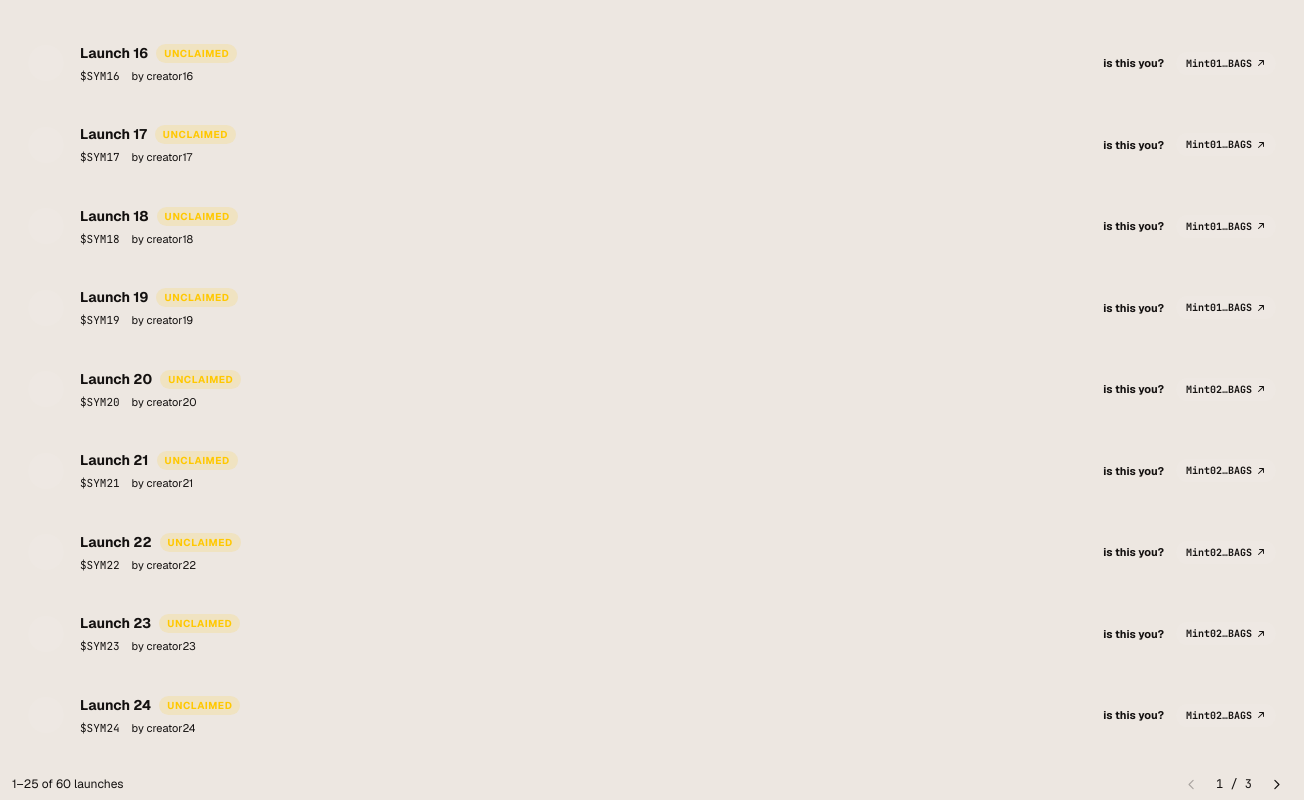
Test case: UnverifiedLaunchBoard › pages forward through the rest
The image size is (1304, 800).
(page scrolled)
Step 1. Click the button named "Next page" → click(1276, 784), box [1260,768,1292,799]
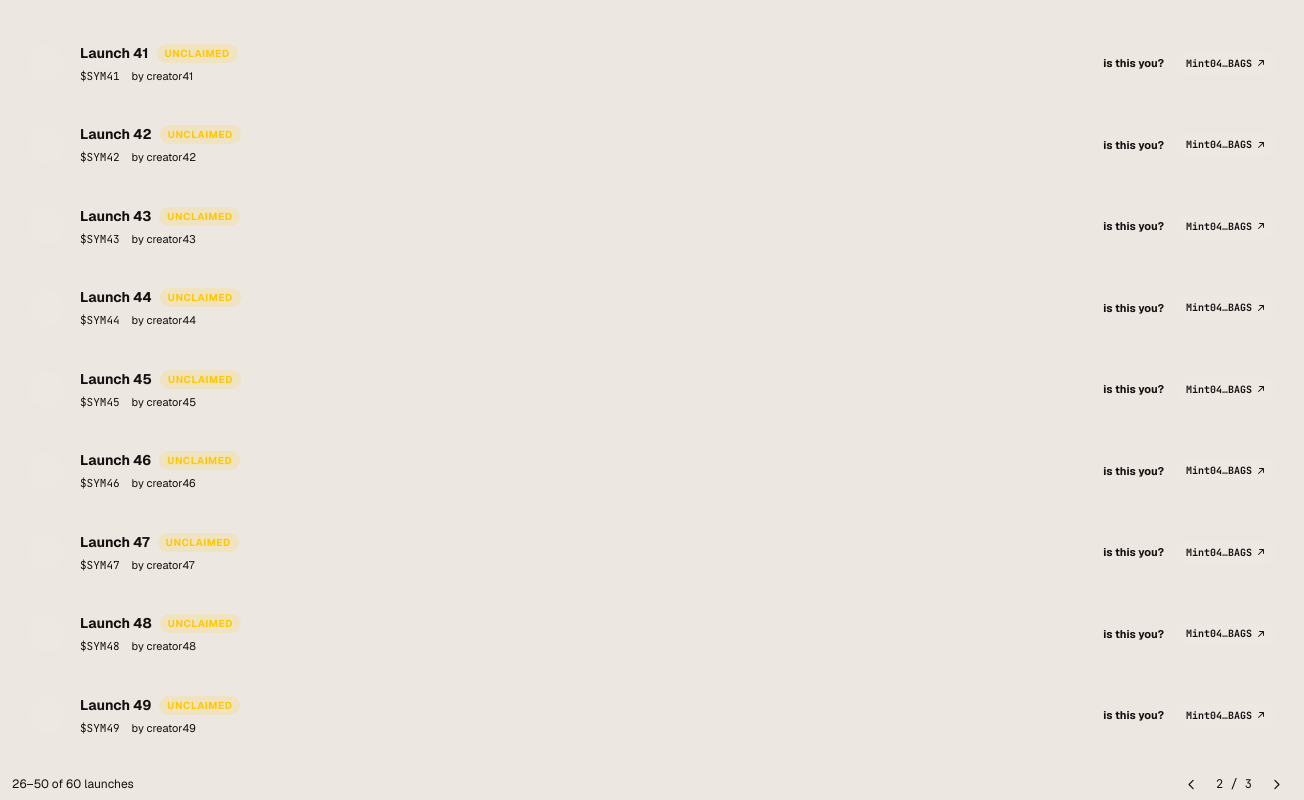
Result: the text "26–50 of 60 launches" is shown at [12,775,134,793]
Step 2. Click the button named "Next page" → click(1276, 784), box [1260,768,1292,799]
(page scrolled)
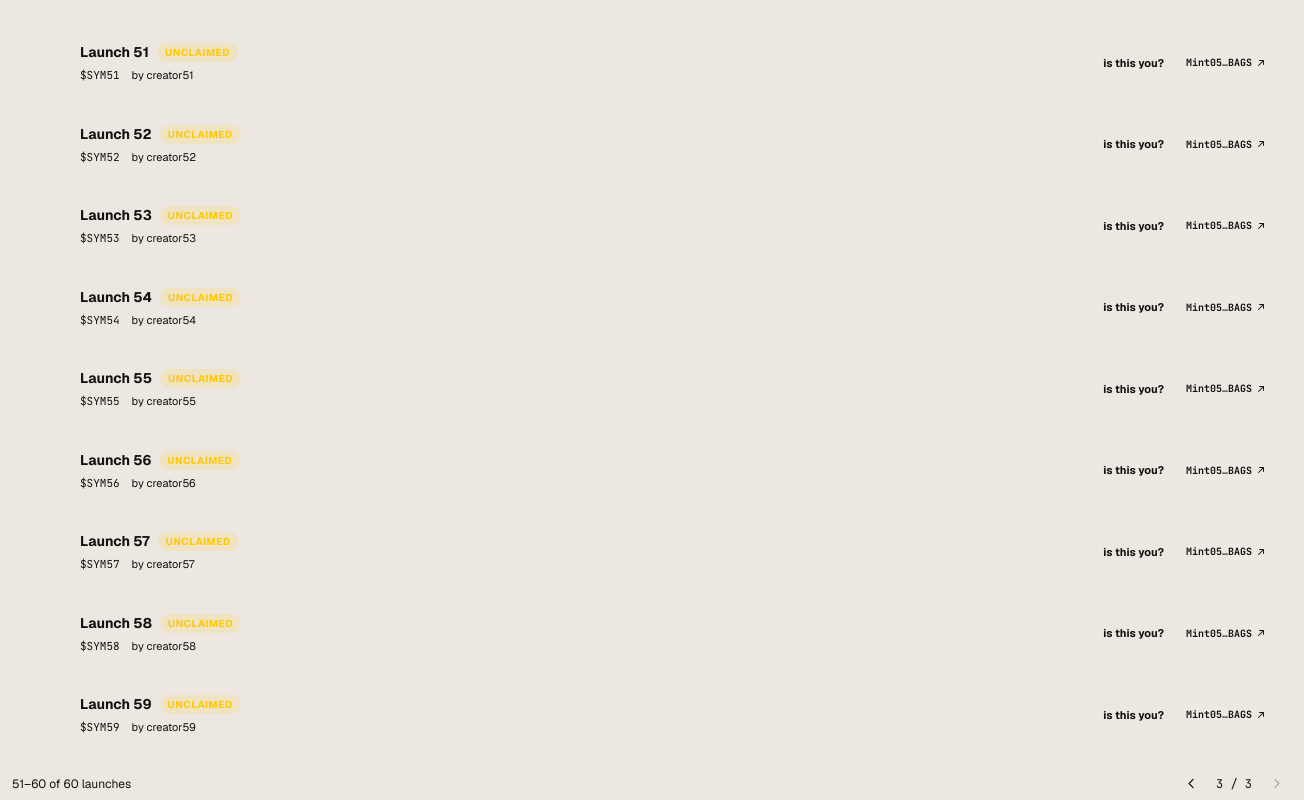
Result: the text "51–60 of 60 launches" is shown at [12,774,131,792]
